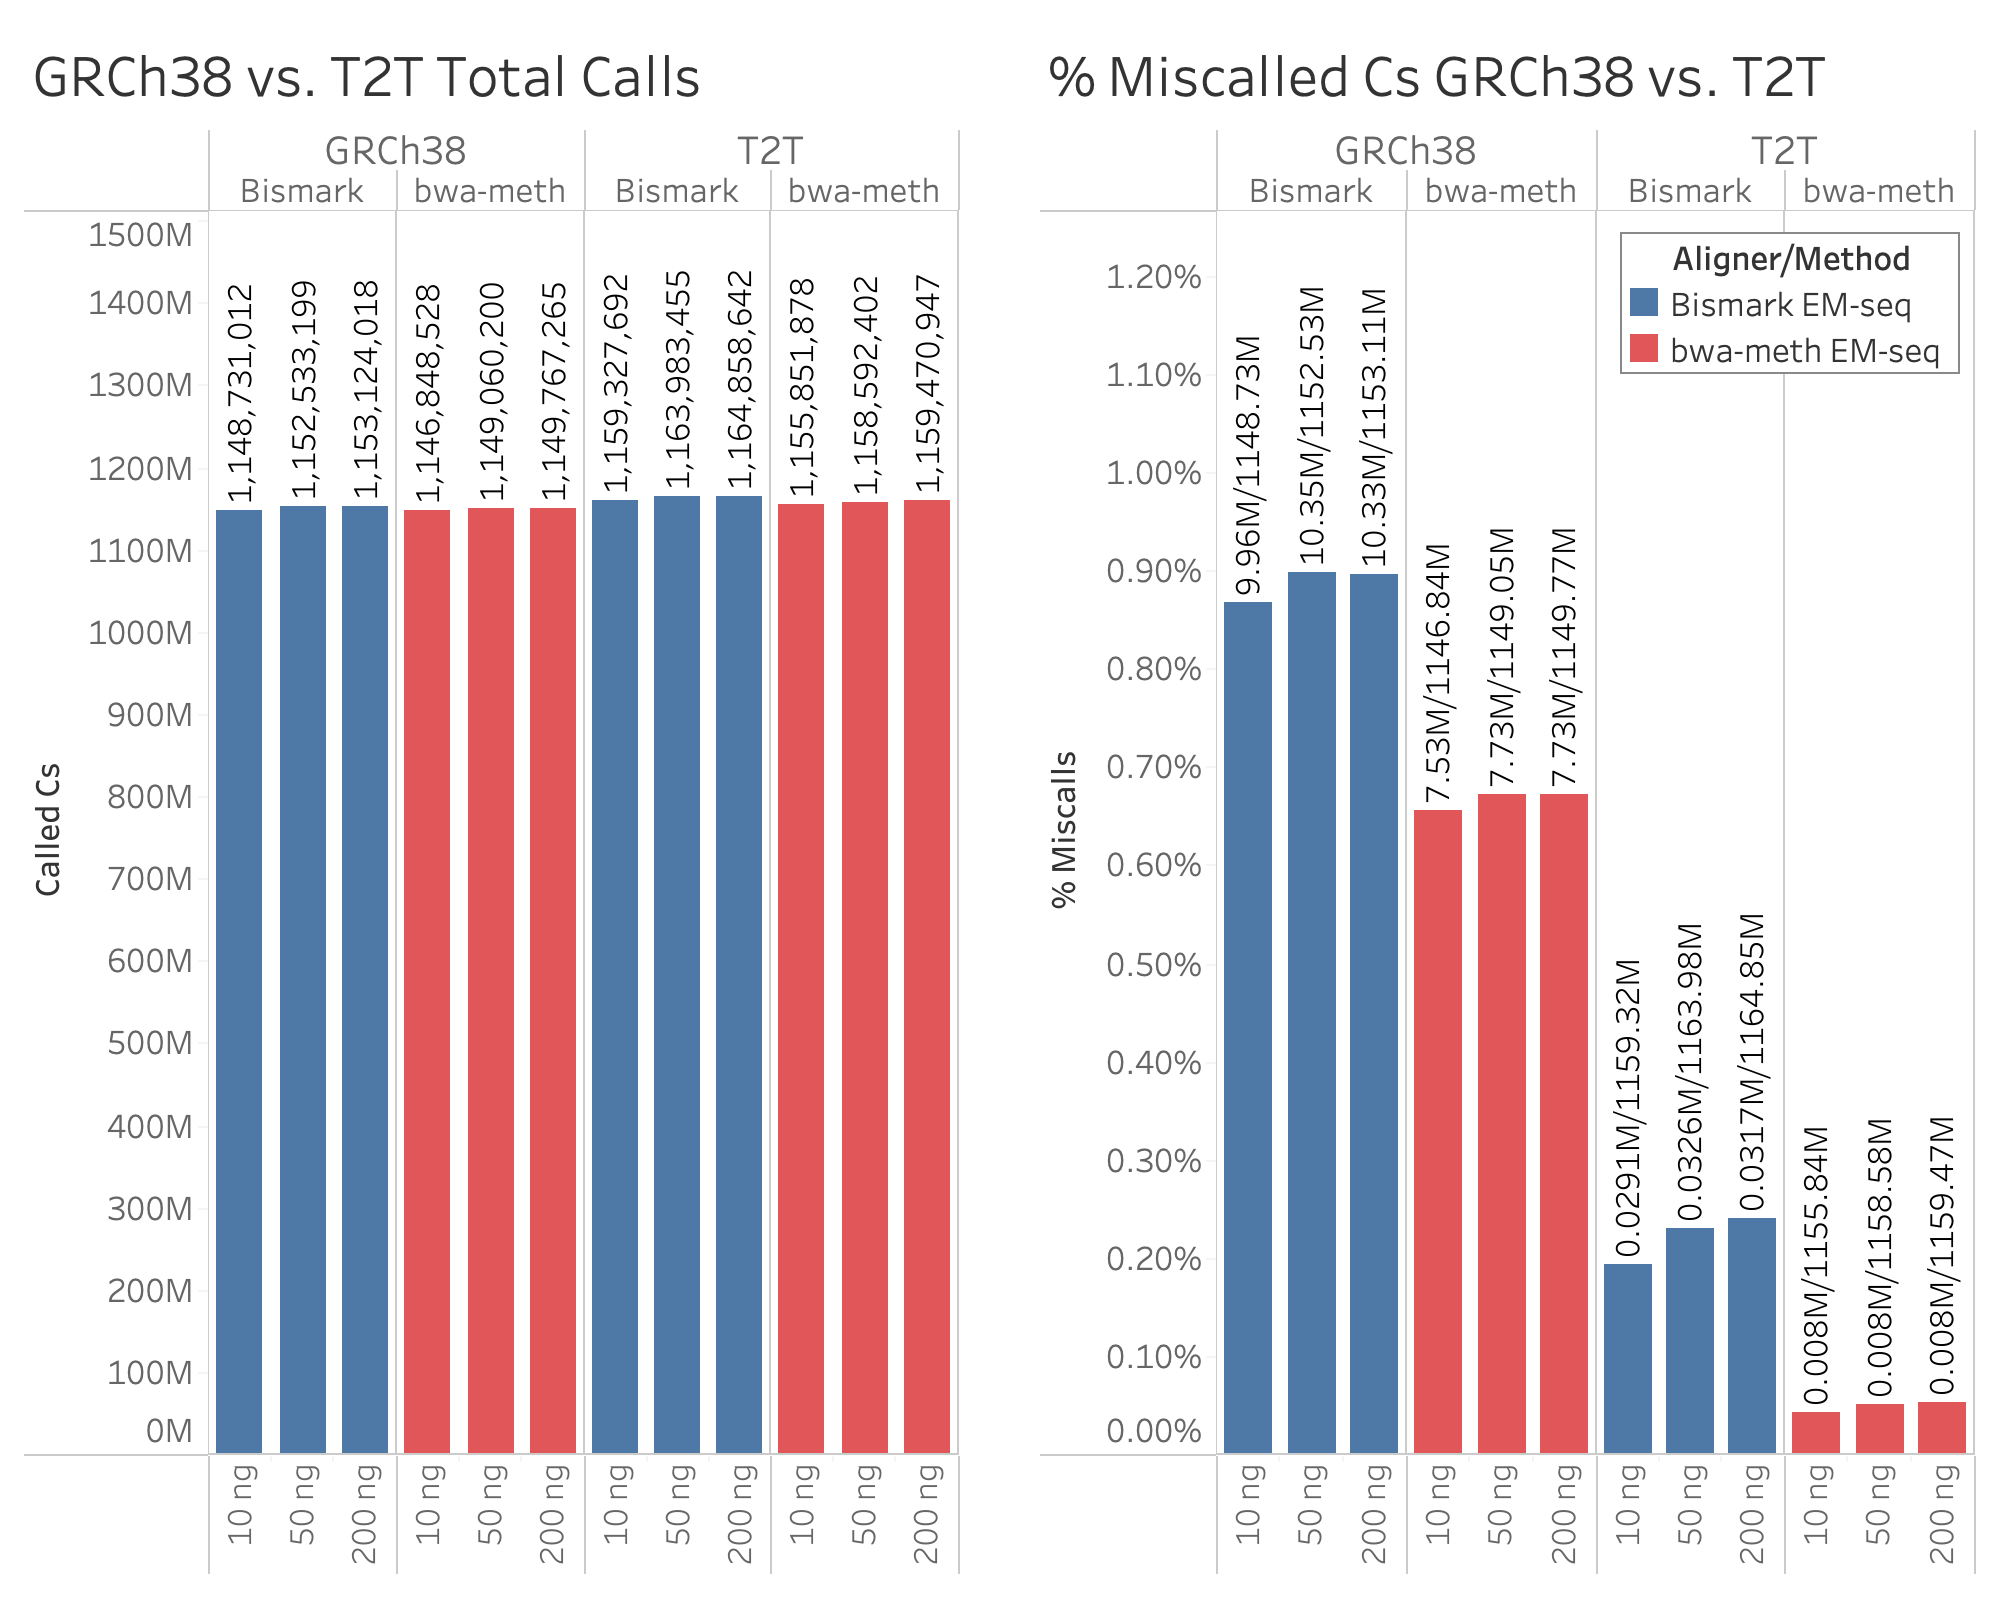

Layout of this report page (visuals, bound fields, positions):
{"tool":"tableau","page":{"name":"T2T Overview","canvas":[1000,800],"ordinal":9},"visuals":[{"type":"worksheet","title":"GRCh38 vs. T2T Total Calls","mark":"Automatic","rows":["lines"],"cols":["Calculation_2909958679150444545","Calculation_1286059169409380354","mass"],"box":[8,8,476,784]},{"type":"blank","box":[484,8,32,784]},{"type":"worksheet","title":"% Miscalled Cs GRCh38 vs. T2T","mark":"Automatic","rows":["Calculation_2383319000136155137"],"cols":["Calculation_2383319000190631947","Method Printable (copy)_2383319000139251717","mass"],"box":[516,8,476,784]},{"type":"legend","title":"GRCh38 vs. T2T Total Calls","param":"[federated.11dozac0mvq9ya1ft8kho1ocxwgv].[none:Calculation_1286059169408798721:n","box":[810,116,170,76]}]}

Visuals, with their boxes in screenshot pixels (x1, y1, x2, y2), scaled from the page's 1000x800 canvas onto the 2000x1600 screenshot:
"GRCh38 vs. T2T Total Calls" worksheet: 16,16,968,1584
blank: 968,16,1032,1584
"% Miscalled Cs GRCh38 vs. T2T" worksheet: 1032,16,1984,1584
"GRCh38 vs. T2T Total Calls" legend: 1620,232,1960,384
